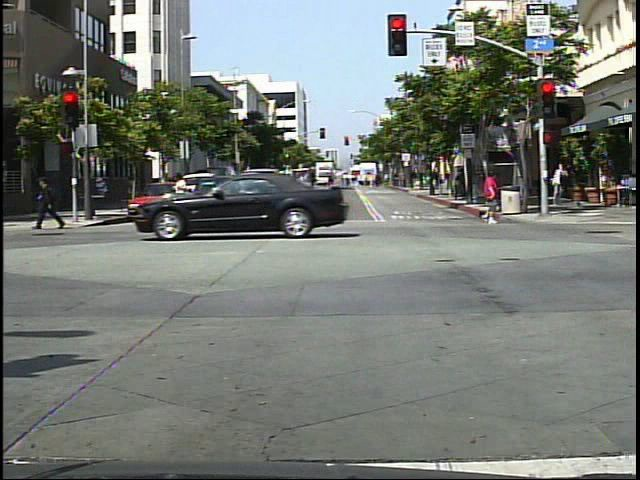person: (32, 169, 68, 235), (471, 170, 508, 232), (169, 170, 203, 235), (549, 160, 571, 206)
